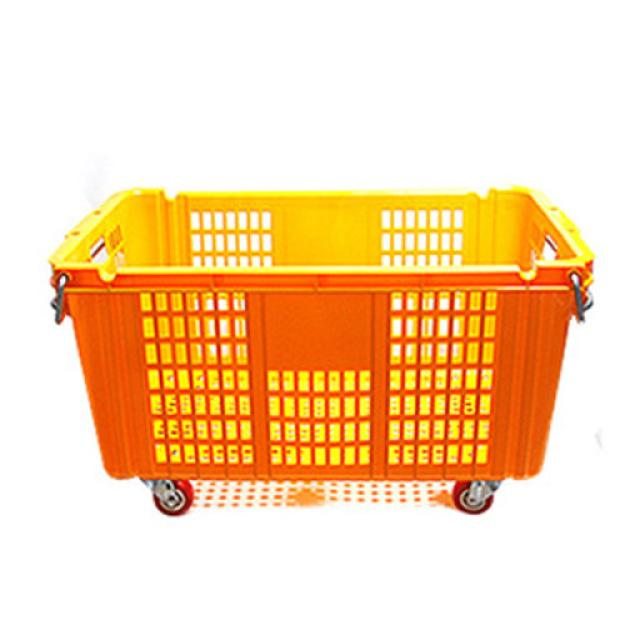basket: (50, 187, 596, 516)
